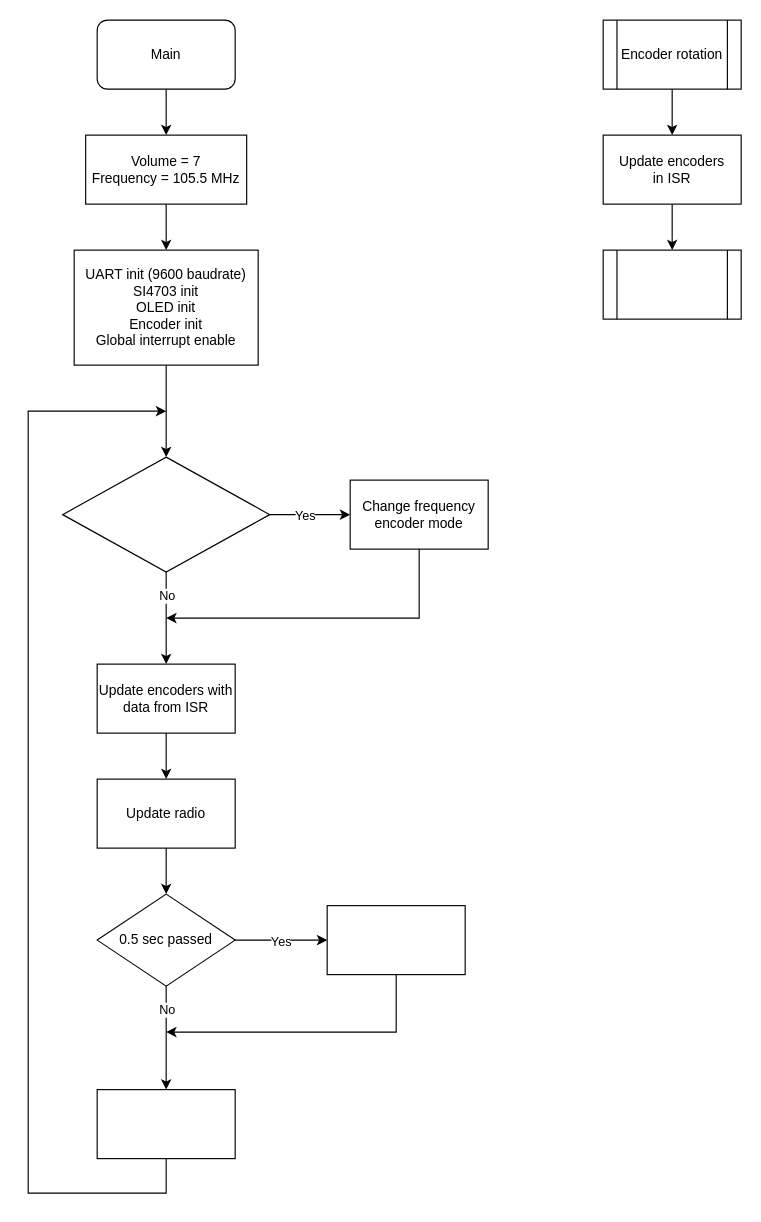
Some shapes in this 761 by 1222 pixel diagram are drawn without their labels. Here are the shapes that lost their labels. From the top down, the centre of each, then its label:
At point 671,284: "Return".
At point 166,514: "Frequency encoder button pushed".
At point 395,939: "Read registers from radio module".
At point 165,1123: "Update display".
